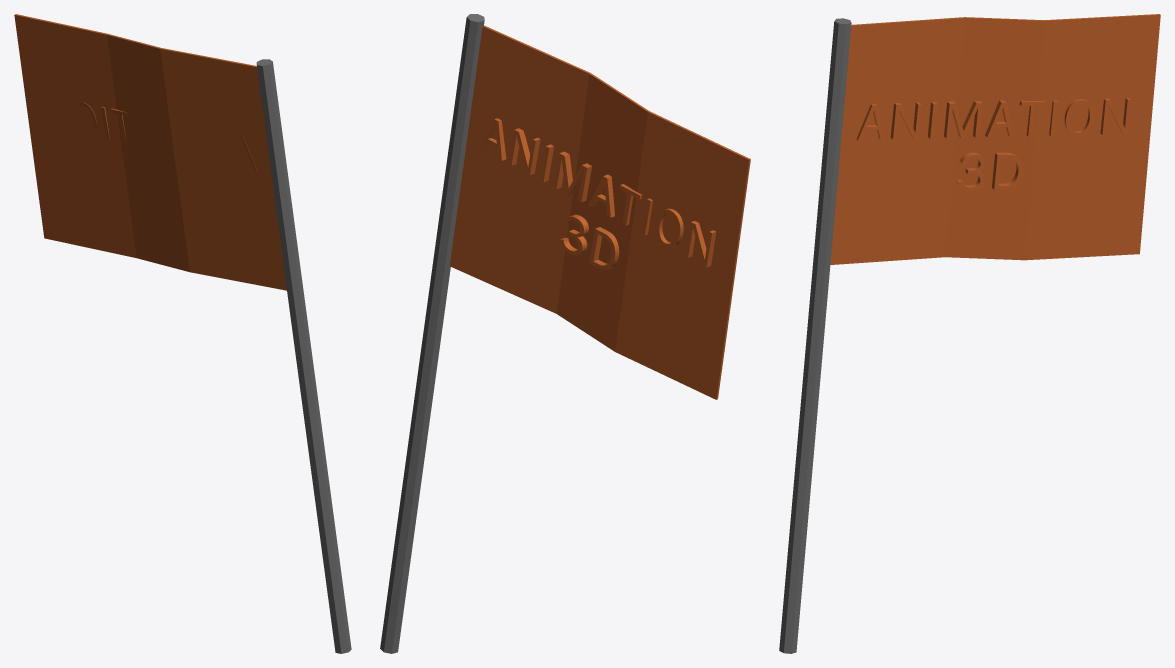
The model's file is drapeau.fbx.
3 views of the same model, side by side, from view 1: azimuth 30°, elevation 25°; view 2: azimuth 210°, elevation 25°; view 3: azimuth 270°, elevation 25° (orthographic). The views are drawn at different scales.
Visible parts, largest first — view 1: Plane001; view 2: Plane001; view 3: Plane001.
Boxes of the visible parts, x1,y1,x2,y2 form: Plane001: [14, 14, 351, 653]; Plane001: [380, 14, 750, 653]; Plane001: [779, 14, 1160, 653].
Bounding box in the file's own units: 31.62 × 113 × 64.41.
